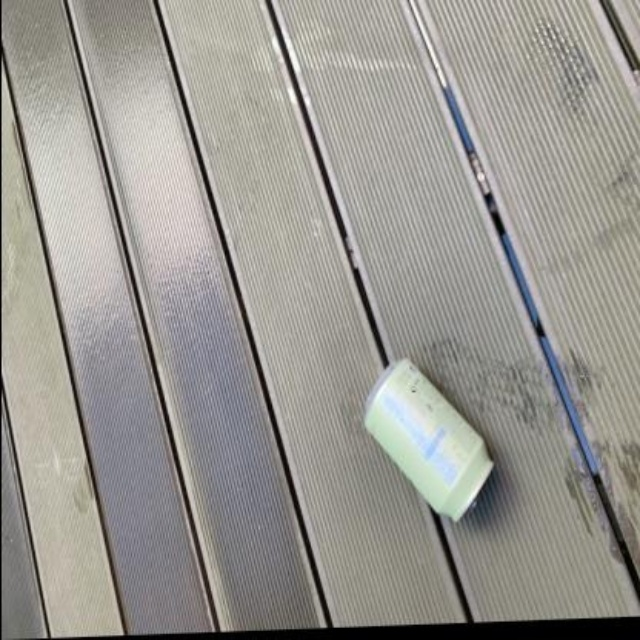trash: (365, 358, 492, 520)
